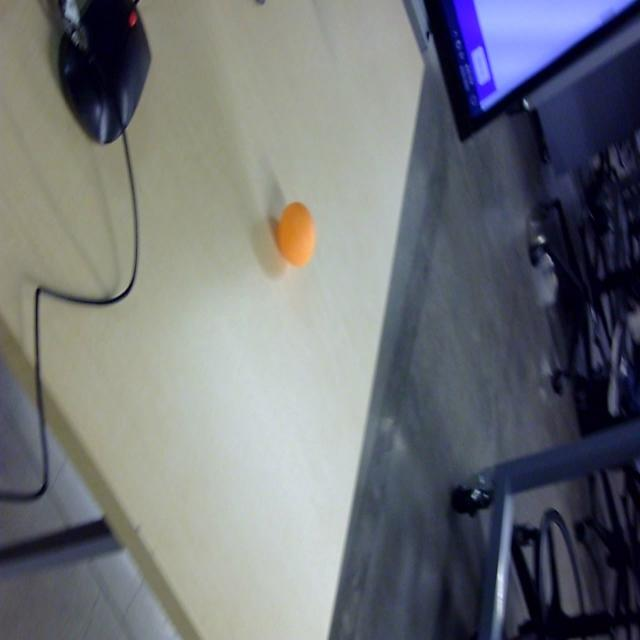ball: (278, 200, 317, 268)
